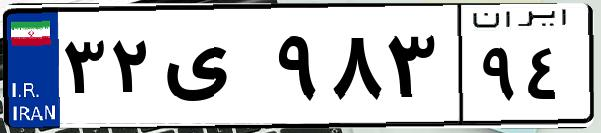2: (110, 28, 158, 98)
3: (385, 28, 445, 110), (57, 26, 110, 100)
4: (525, 38, 570, 115)
8: (330, 28, 385, 110)
9: (270, 28, 330, 110), (475, 38, 525, 113)
ی: (158, 20, 270, 120)
